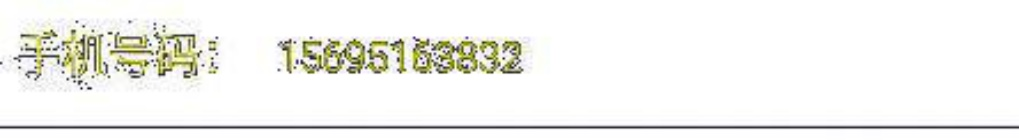EditText: (1, 1, 1018, 139)
